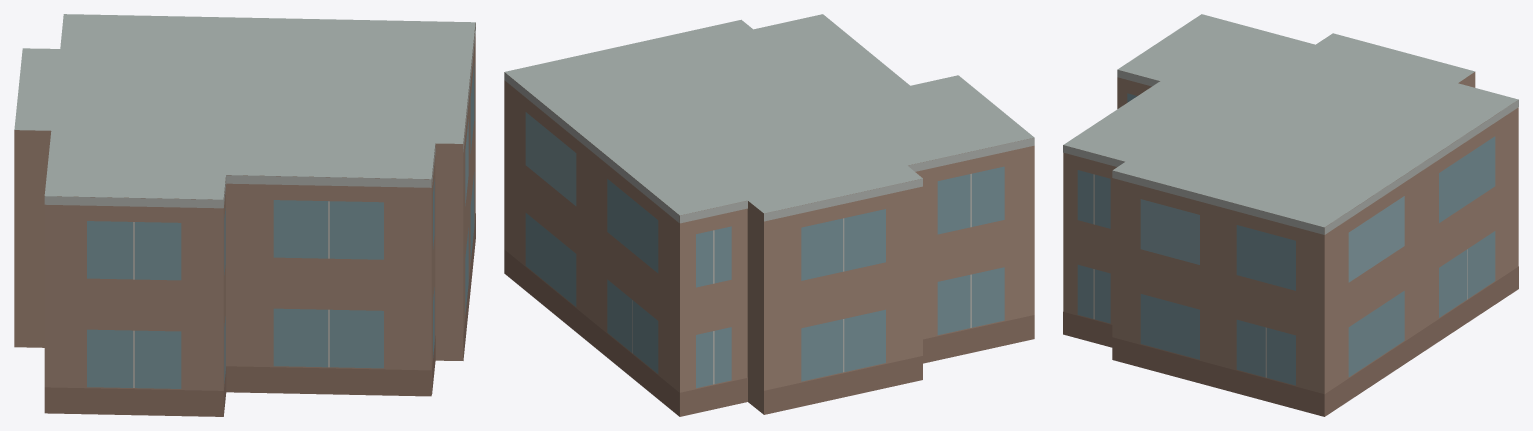
File: survey-upis-32787730.glb
The picture shows the model from 3 angles, left to right: view 1: azimuth 30°, elevation 25°; view 2: azimuth 150°, elevation 25°; view 3: azimuth 270°, elevation 25°; orthographic projection. The views are drawn at different scales.
Visible parts, largest first — view 1: survey-upis-32787730.tmp; view 2: survey-upis-32787730.tmp; view 3: survey-upis-32787730.tmp.
Part boxes in pixels (x1,y1,x2,y2): survey-upis-32787730.tmp: [14, 14, 475, 416]; survey-upis-32787730.tmp: [504, 14, 1034, 416]; survey-upis-32787730.tmp: [1063, 14, 1518, 416].
Size of the model in its own units: 14.75 by 6.1 by 13.31.
